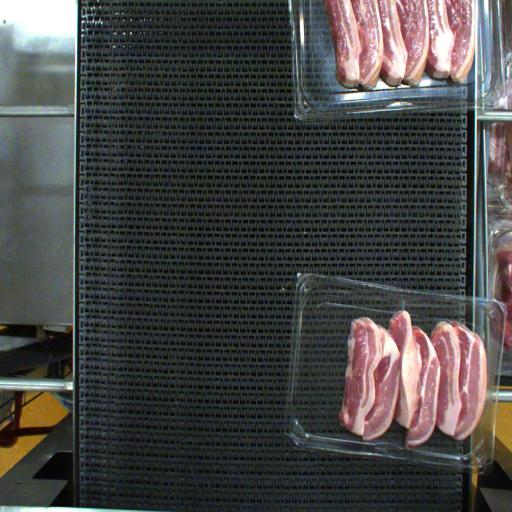packaging-error: (397, 283, 415, 314)
